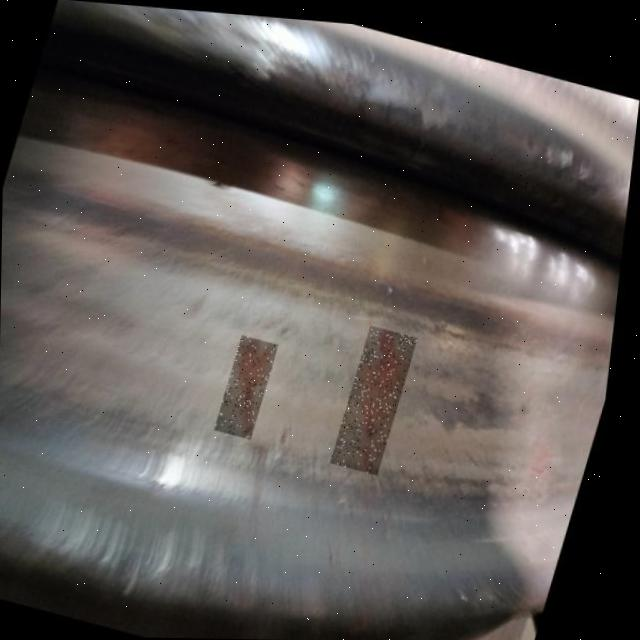Contact_Fatigue_Cracks: (400, 468, 524, 512)
Out_Of_Roundness: (56, 540, 205, 620)
